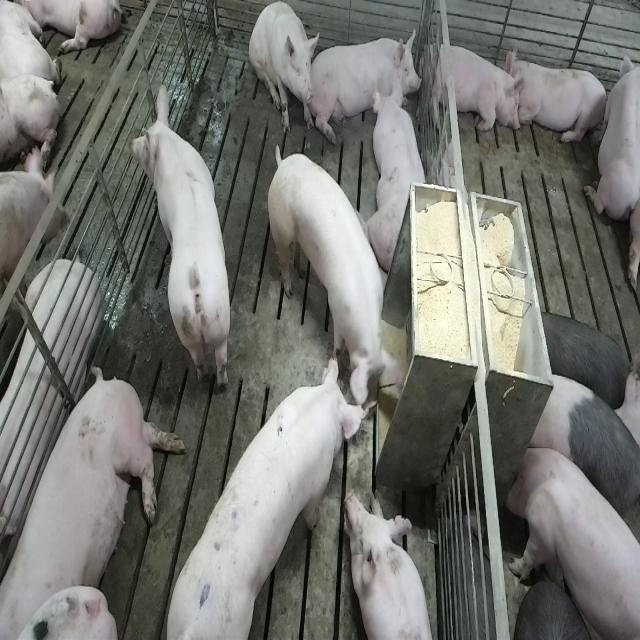Lateral_lying: (3, 362, 187, 636), (0, 259, 102, 550)
Sitting: (249, 3, 319, 137)
Standing: (163, 352, 377, 636), (266, 150, 402, 426), (126, 82, 231, 397), (503, 439, 638, 640), (524, 370, 639, 540), (532, 305, 628, 411)
Sternal_lying: (348, 488, 438, 640), (370, 82, 431, 274), (311, 31, 418, 137), (425, 37, 524, 139), (509, 52, 610, 149), (584, 41, 637, 224)
